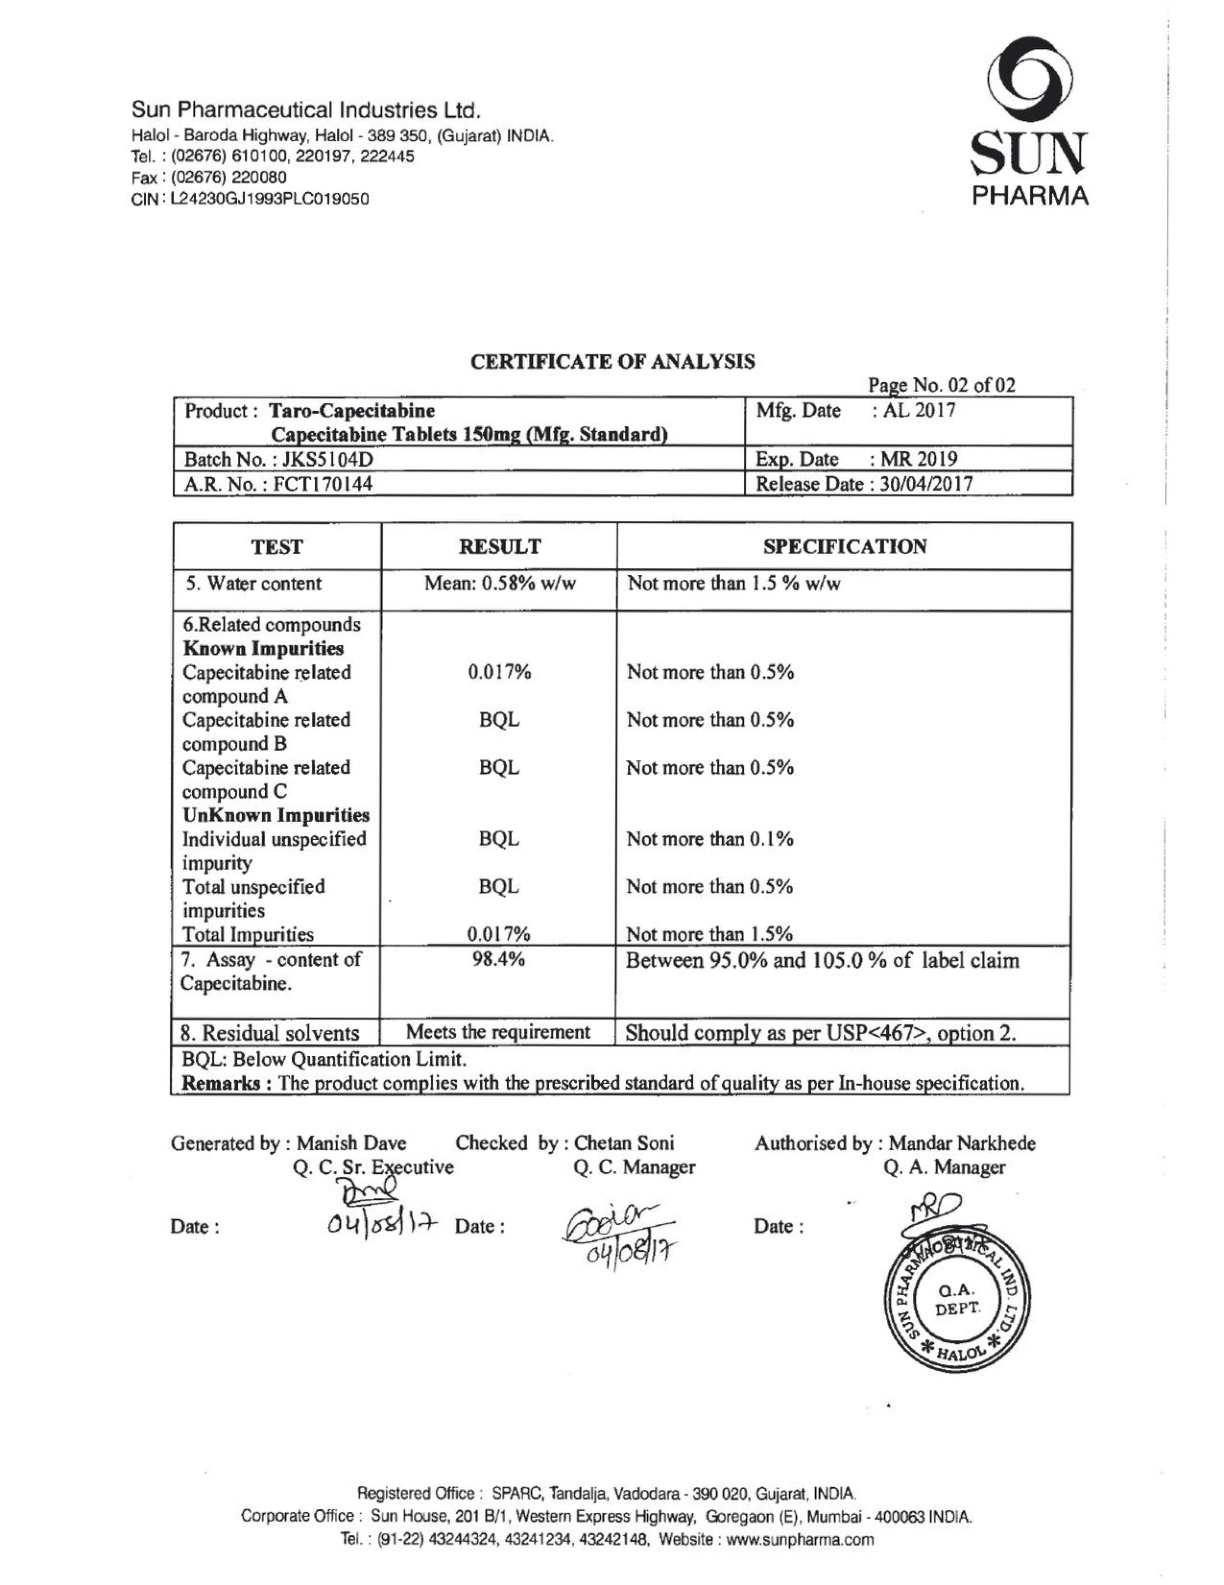full_lined: (172, 395, 1074, 497)
merged_cells: (168, 519, 1074, 1097)
